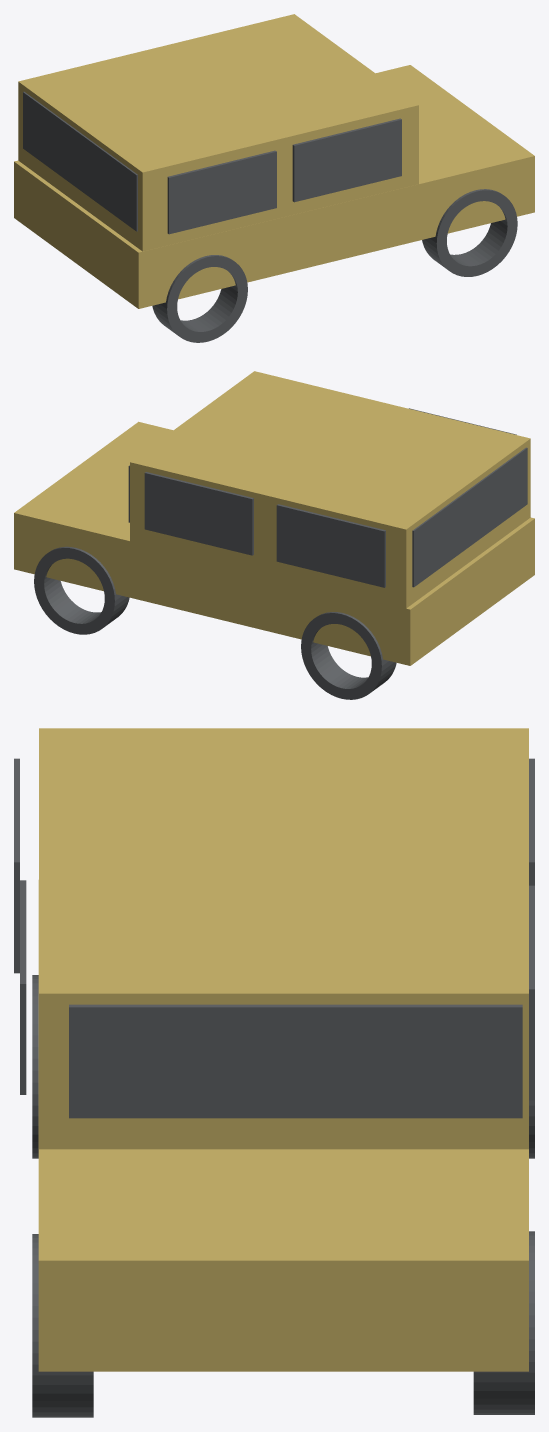
The model's file is cocheAmarilloCubo.glb.
The picture shows the model from 3 angles, top to bottom: view 1: azimuth 30°, elevation 25°; view 2: azimuth 150°, elevation 25°; view 3: azimuth 270°, elevation 25°; orthographic projection. The views are drawn at different scales.
Visible parts, largest first — view 1: Mesh_Mesh_head_geo.001_lambert2SG.001; view 2: Mesh_Mesh_head_geo.001_lambert2SG.001; view 3: Mesh_Mesh_head_geo.001_lambert2SG.001.
Part boxes in pixels (<box>): Mesh_Mesh_head_geo.001_lambert2SG.001: <box>14,14,534,342</box>; Mesh_Mesh_head_geo.001_lambert2SG.001: <box>14,371,534,699</box>; Mesh_Mesh_head_geo.001_lambert2SG.001: <box>14,728,534,1417</box>.
Size of the model in its own units: 0.147 by 0.065 by 0.085.
